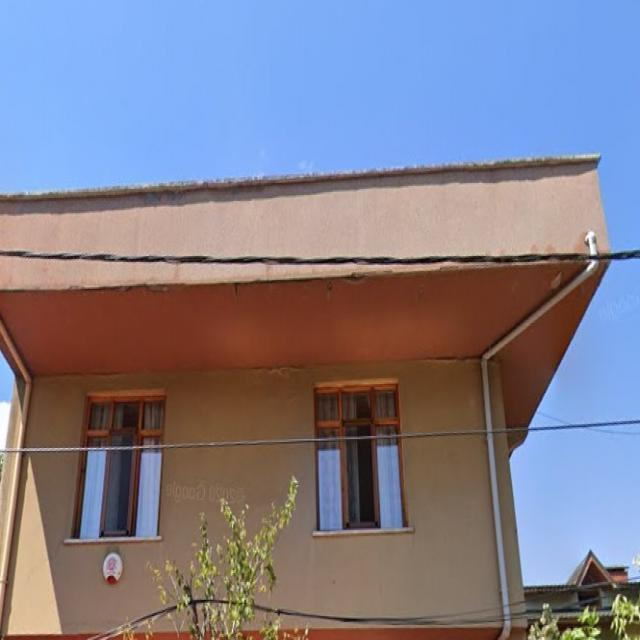Building: (0, 154, 613, 640)
